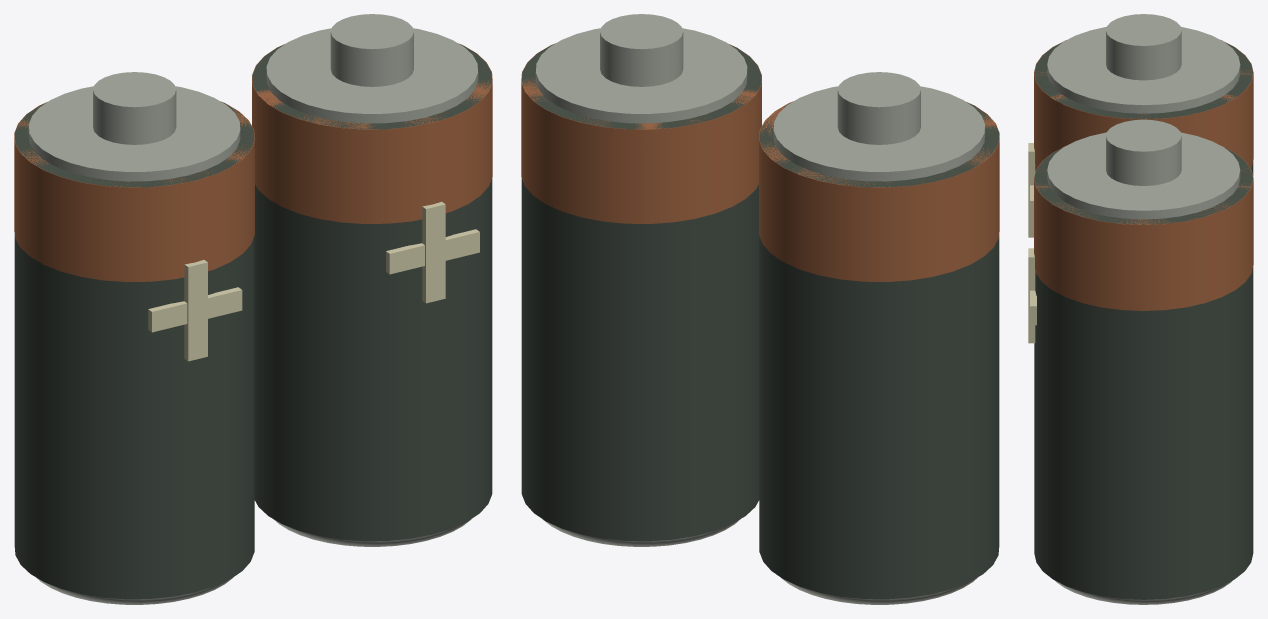
The model's file is sealed-cells-rig.glb.
The picture shows the model from 3 angles, left to right: view 1: azimuth 30°, elevation 25°; view 2: azimuth 150°, elevation 25°; view 3: azimuth 270°, elevation 25°; orthographic projection. The views are drawn at different scales.
Parts seen in each view (by area): view 1: sealed-cells-rig; view 2: sealed-cells-rig; view 3: sealed-cells-rig.
Boxes of the visible parts, bbox=[...] form: sealed-cells-rig: bbox=[14, 14, 492, 604]; sealed-cells-rig: bbox=[521, 14, 999, 604]; sealed-cells-rig: bbox=[1028, 14, 1253, 604].
Bounding box in the file's own units: 0.0545 × 0.0548 × 0.0261.
